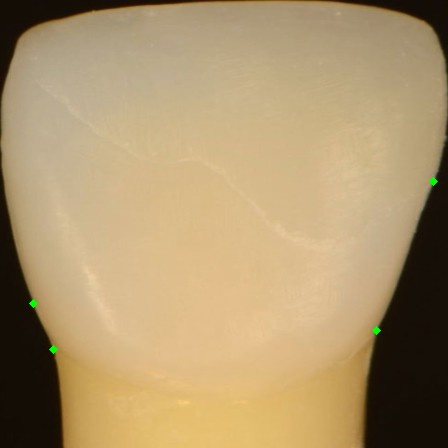coin_1: (376, 330, 396, 350)
coin_2: (433, 181, 448, 201)
coin_3: (53, 349, 73, 369)
coin_4: (33, 303, 53, 323)
